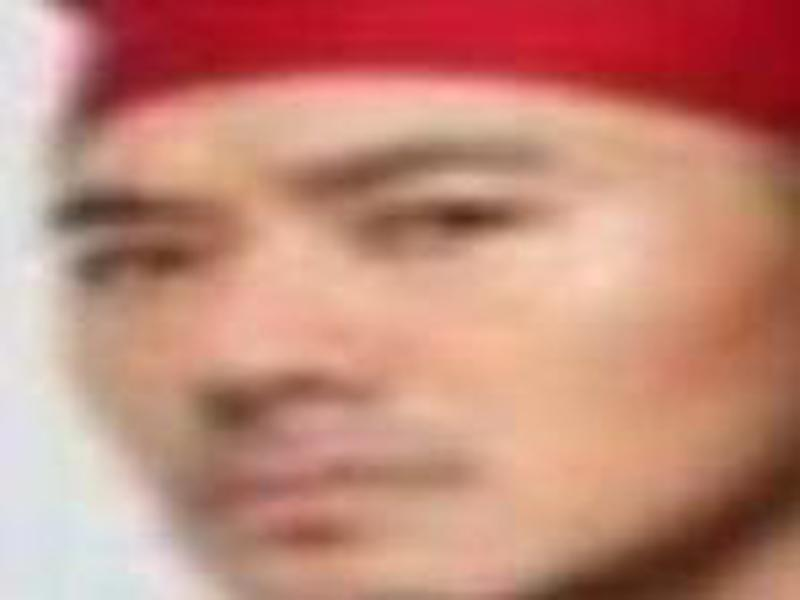without_mask: (46, 82, 787, 600)
